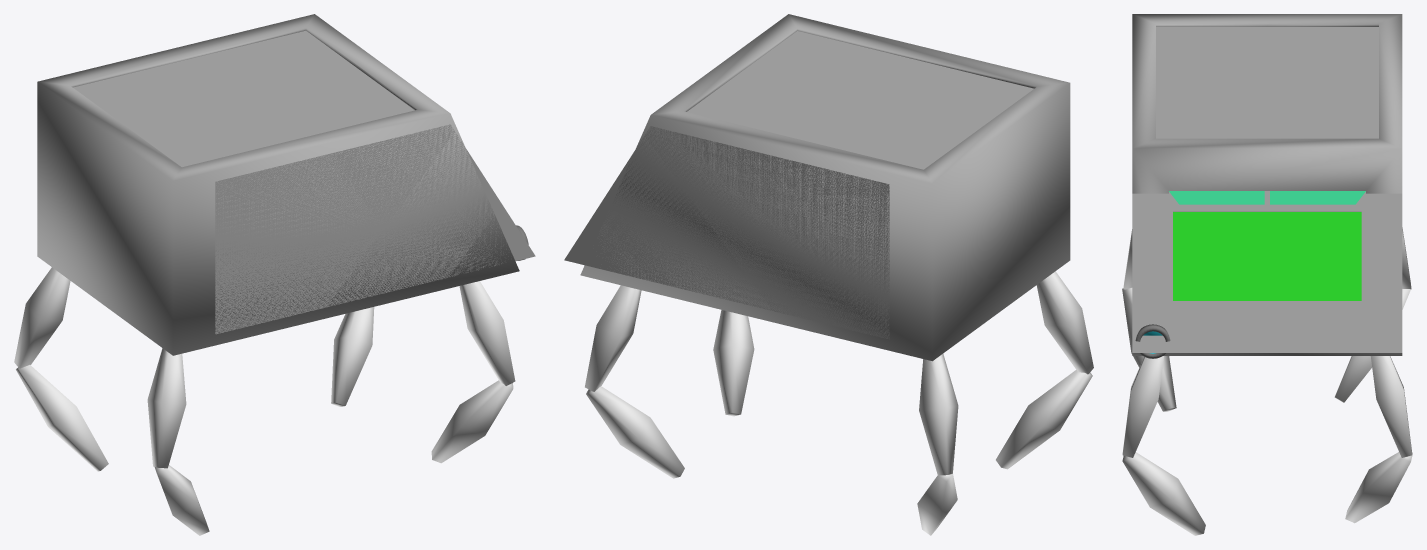
Rendered from Player.fbx.
The picture shows the model from 3 angles, left to right: view 1: azimuth 30°, elevation 25°; view 2: azimuth 150°, elevation 25°; view 3: azimuth 270°, elevation 25°; orthographic projection. The views are drawn at different scales.
Parts seen in each view (by area): view 1: Cube, Cube.001, Cube.002, Cube.003, Cube.007, Cube.004, Cube.005, Cube.011, Cube.010, Cube.008, Cube.006; view 2: Cube, Cube.001, Cube.003, Cube.002, Cube.006, Cube.008, Cube.005, Cube.010, Cube.007, Cube.009, Cube.004; view 3: Cube.001, Cube, Cube.002, Cube.003, Cube.010, Cube.009, Cube.011, Cube.008, Cube.006, Cube.004, Cylinder.
Part boxes in pixels (x1,y1,x2,y2): Cube: (37, 14, 519, 355); Cube.001: (215, 124, 535, 334); Cube.002: (73, 30, 361, 128); Cube.003: (129, 71, 414, 167); Cube.007: (147, 348, 186, 468); Cube.004: (16, 365, 108, 471); Cube.005: (14, 267, 70, 368); Cube.011: (459, 281, 515, 385); Cube.010: (431, 380, 513, 463); Cube.008: (331, 307, 374, 406); Cube.006: (154, 465, 209, 535); Cube: (580, 14, 1070, 361); Cube.001: (564, 126, 889, 339); Cube.003: (741, 31, 1033, 130); Cube.002: (687, 72, 976, 169); Cube.006: (996, 370, 1092, 469); Cube.008: (586, 386, 684, 478); Cube.005: (919, 354, 958, 475); Cube.010: (713, 310, 754, 416); Cube.007: (1036, 271, 1093, 374); Cube.009: (585, 285, 641, 391); Cube.004: (917, 473, 957, 535); Cube.001: (1132, 191, 1402, 352); Cube: (1132, 14, 1402, 355); Cube.002: (1267, 27, 1378, 138); Cube.003: (1156, 27, 1267, 138); Cube.010: (1122, 452, 1205, 535); Cube.009: (1370, 356, 1412, 457); Cube.011: (1122, 356, 1163, 457); Cube.008: (1345, 452, 1412, 523); Cube.006: (1122, 288, 1176, 411); Cube.004: (1334, 289, 1410, 402); Cylinder: (1135, 324, 1170, 358).
Bounding box in the file's own units: 325 × 308 × 215.
